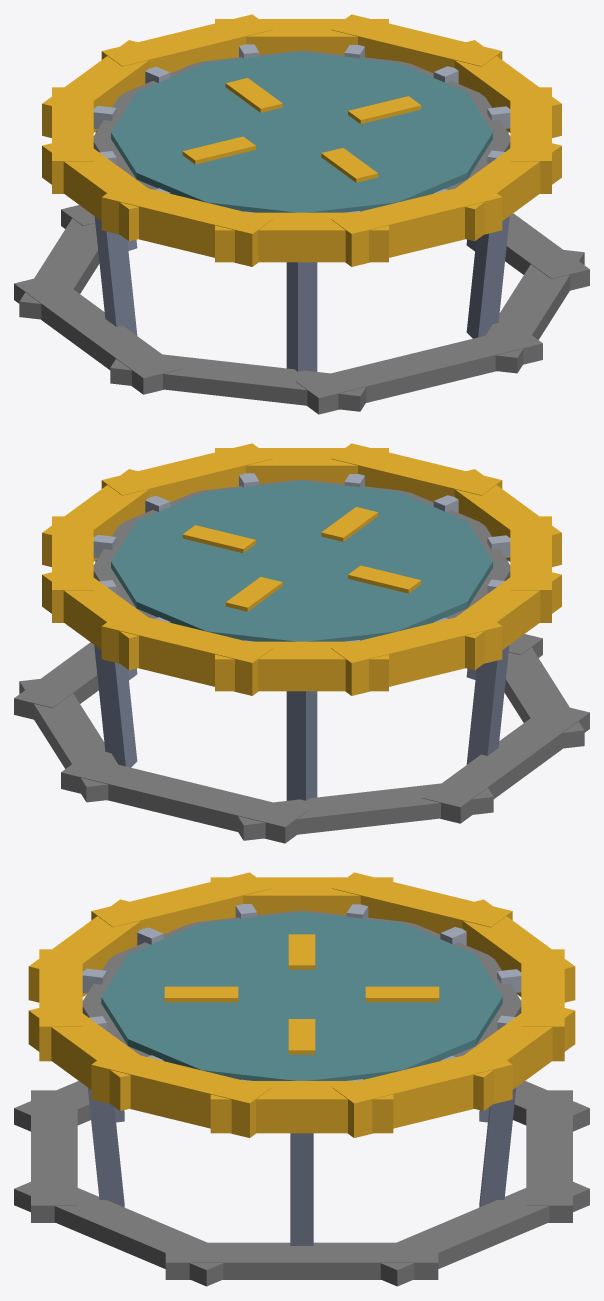
Rendered from trampoline.glb.
The picture shows the model from 3 angles, top to bottom: view 1: azimuth 30°, elevation 25°; view 2: azimuth 150°, elevation 25°; view 3: azimuth 270°, elevation 25°; orthographic projection. The views are drawn at different scales.
Visible parts, largest first — view 1: trampoline; view 2: trampoline; view 3: trampoline.
Boxes of the visible parts, x1,y1,x2,y2 form: trampoline: (14,14,589,414); trampoline: (14,443,589,843); trampoline: (14,872,589,1286).
Bounding box in the file's own units: 1.5 × 0.5141 × 1.5.
